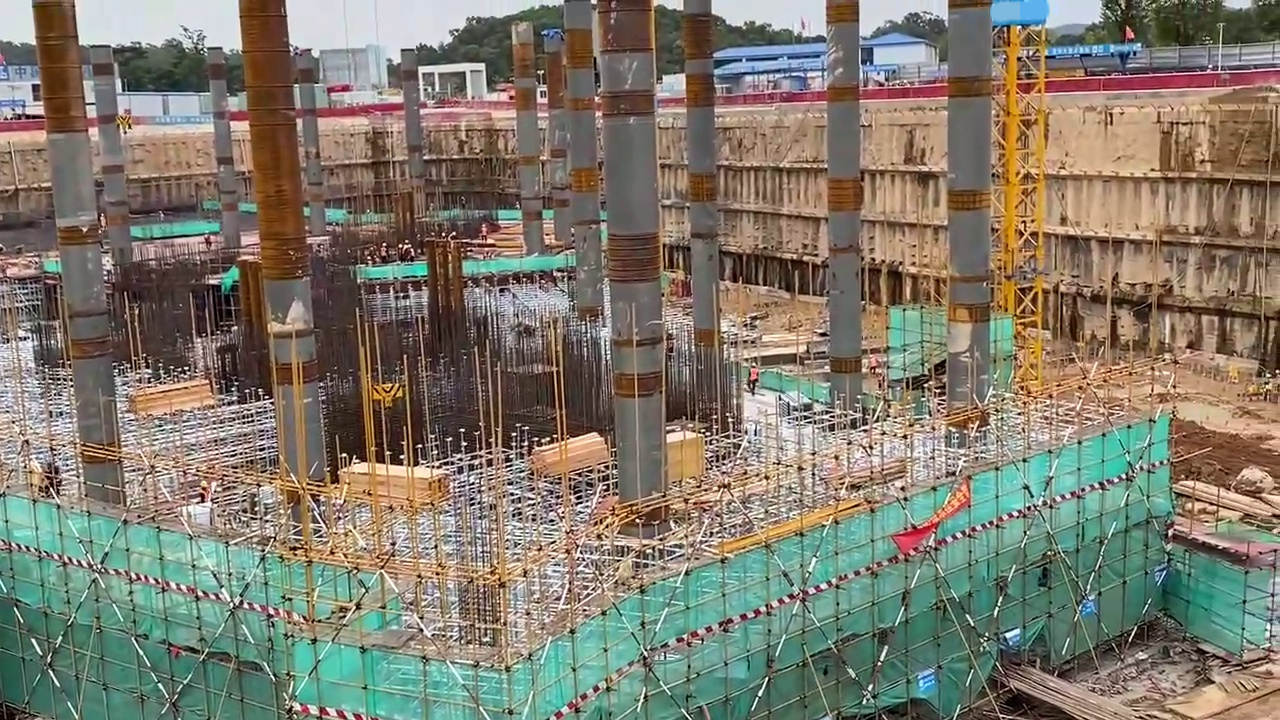hook: (371, 382, 402, 402)
person: (746, 358, 759, 394)
wood: (346, 459, 455, 511), (526, 434, 612, 476), (129, 384, 215, 411)
